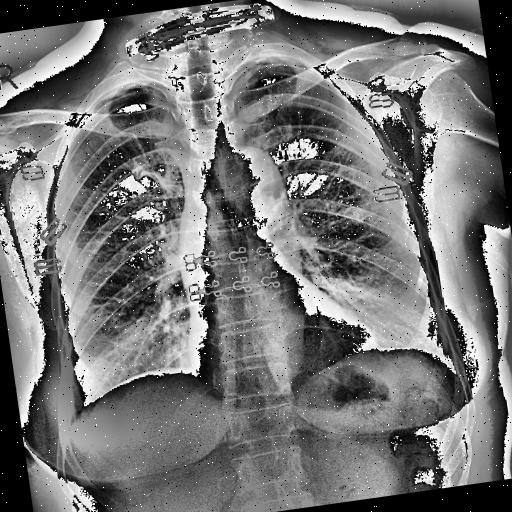0- Aortic enlargement: (217, 139, 297, 250), (216, 140, 292, 225), (220, 142, 290, 214)
11- Pleural thickening: (84, 80, 152, 112), (242, 51, 302, 76)
